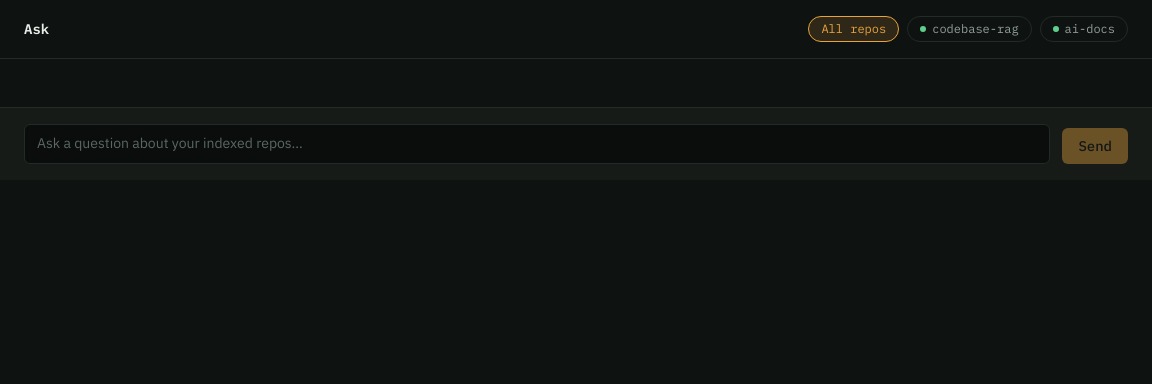
Test: AskPage › FR-1: submitting a question shows a grounded answer with citations
In the text box labelled "Ask a question about your indexed repos…": (537, 144) [24, 124, 1050, 164], type "how does routing work?"
Then press Enter
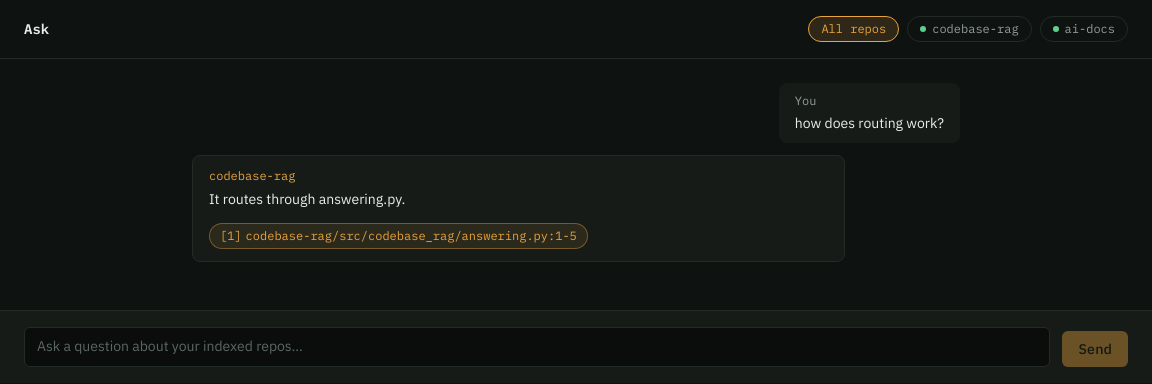
Expected: the text "It routes through answering.py." is shown, [209, 190, 405, 208]
Expected: the button "[1] codebase-rag/src/codebase_rag/answering.py:1-5" is shown, [209, 223, 588, 249]
